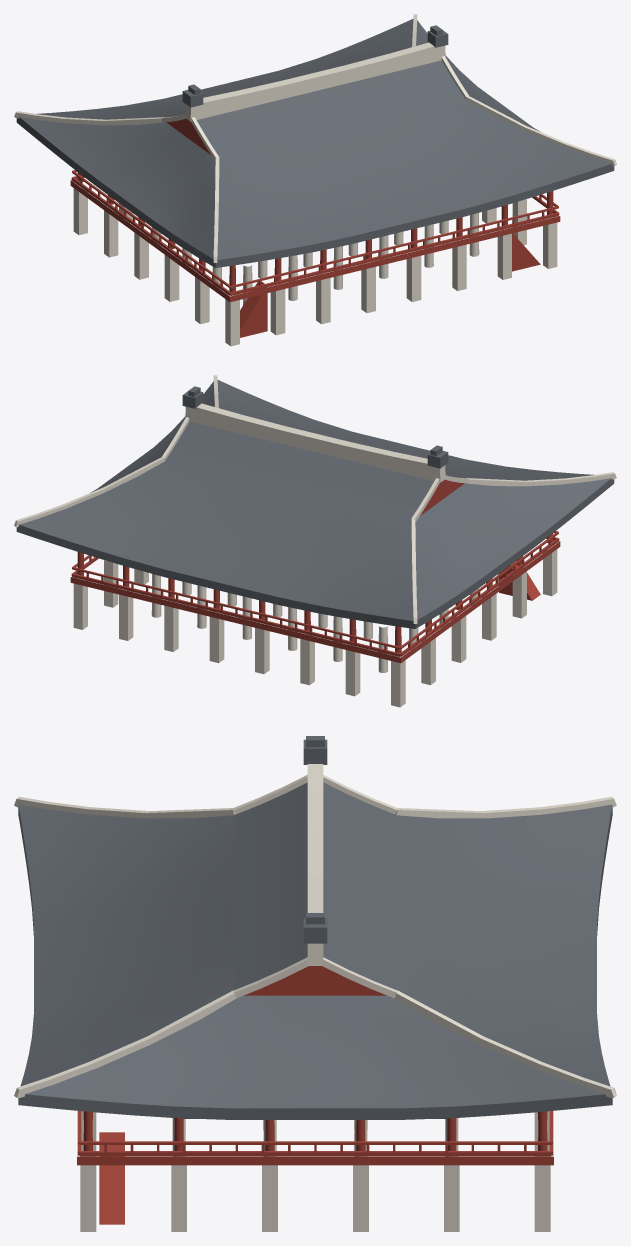
The model's file is seoul-gyeonghoeru.glb.
3 renders of one model, top to bottom at view 1: azimuth 30°, elevation 25°; view 2: azimuth 150°, elevation 25°; view 3: azimuth 270°, elevation 25°, orthographic. The views are drawn at different scales.
Visible parts, largest first — view 1: Gyeonghoeru; view 2: Gyeonghoeru; view 3: Gyeonghoeru.
Boxes of the visible parts, box(x1,y1,x2,y2) form: Gyeonghoeru: box(14, 14, 616, 346); Gyeonghoeru: box(14, 375, 616, 707); Gyeonghoeru: box(14, 736, 616, 1231).
Size of the model in its own units: 43.71 by 19.8 by 37.82.
